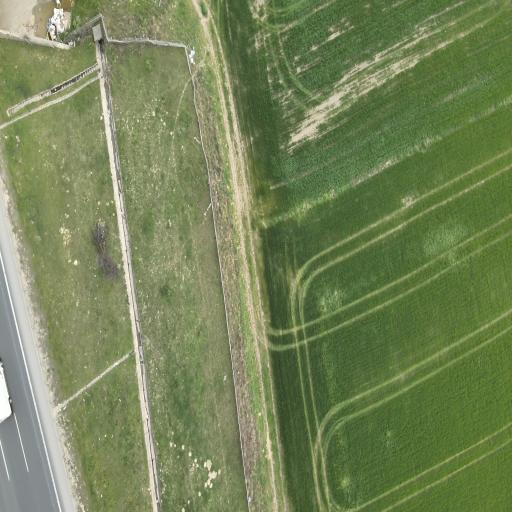car: (0, 360, 12, 422)
